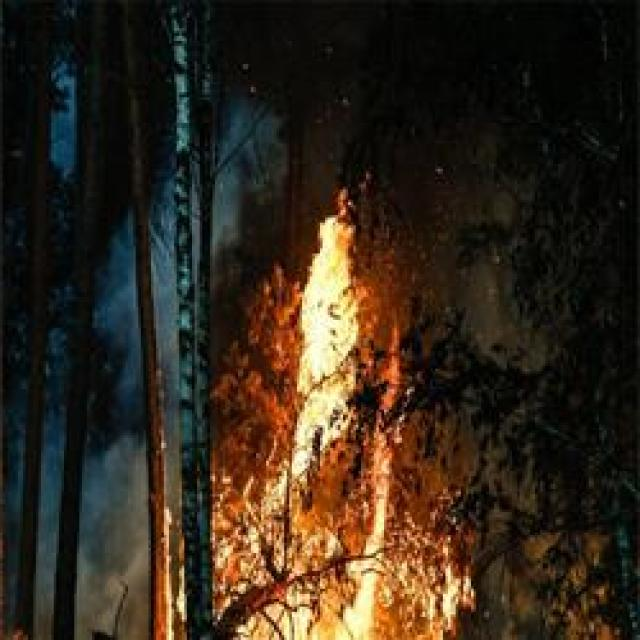fire: (296, 222, 366, 400), (295, 583, 379, 640), (353, 493, 385, 640)
